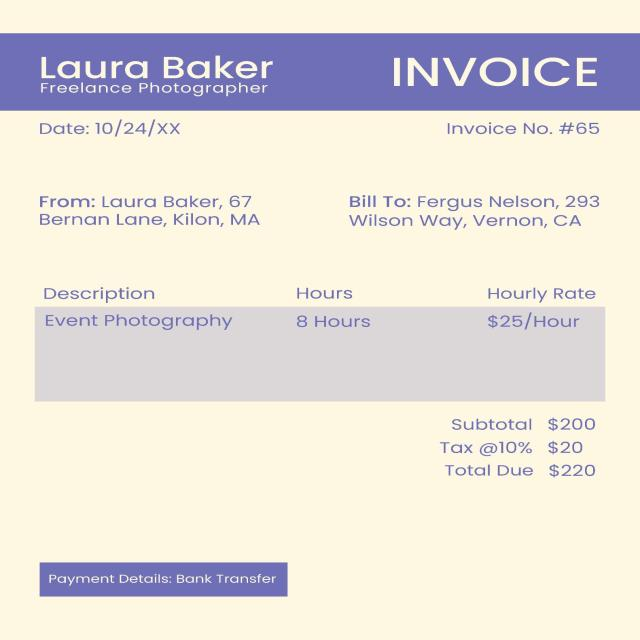paragraph: (316, 184, 610, 254), (26, 183, 288, 253), (20, 42, 287, 106), (372, 39, 614, 100), (32, 552, 294, 607), (427, 416, 612, 488), (424, 114, 618, 152), (38, 116, 188, 145)
table: (26, 272, 622, 408)
